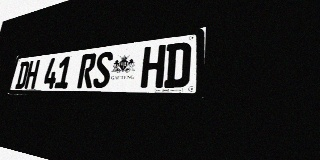1: (54, 56, 73, 88)
4: (42, 57, 60, 89)
D: (163, 41, 191, 88), (15, 61, 30, 89)
H: (140, 44, 166, 88), (24, 60, 40, 89)
R: (77, 53, 97, 88)
S: (92, 51, 114, 88)
